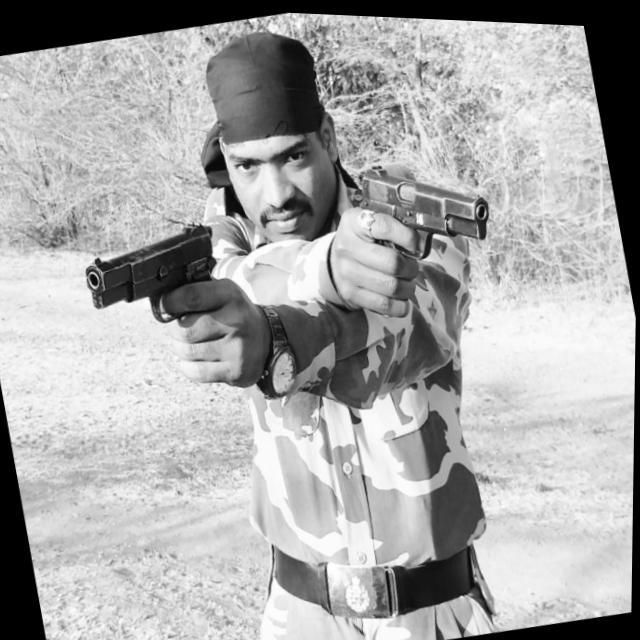weapon: (72, 206, 248, 403), (333, 140, 514, 328)
